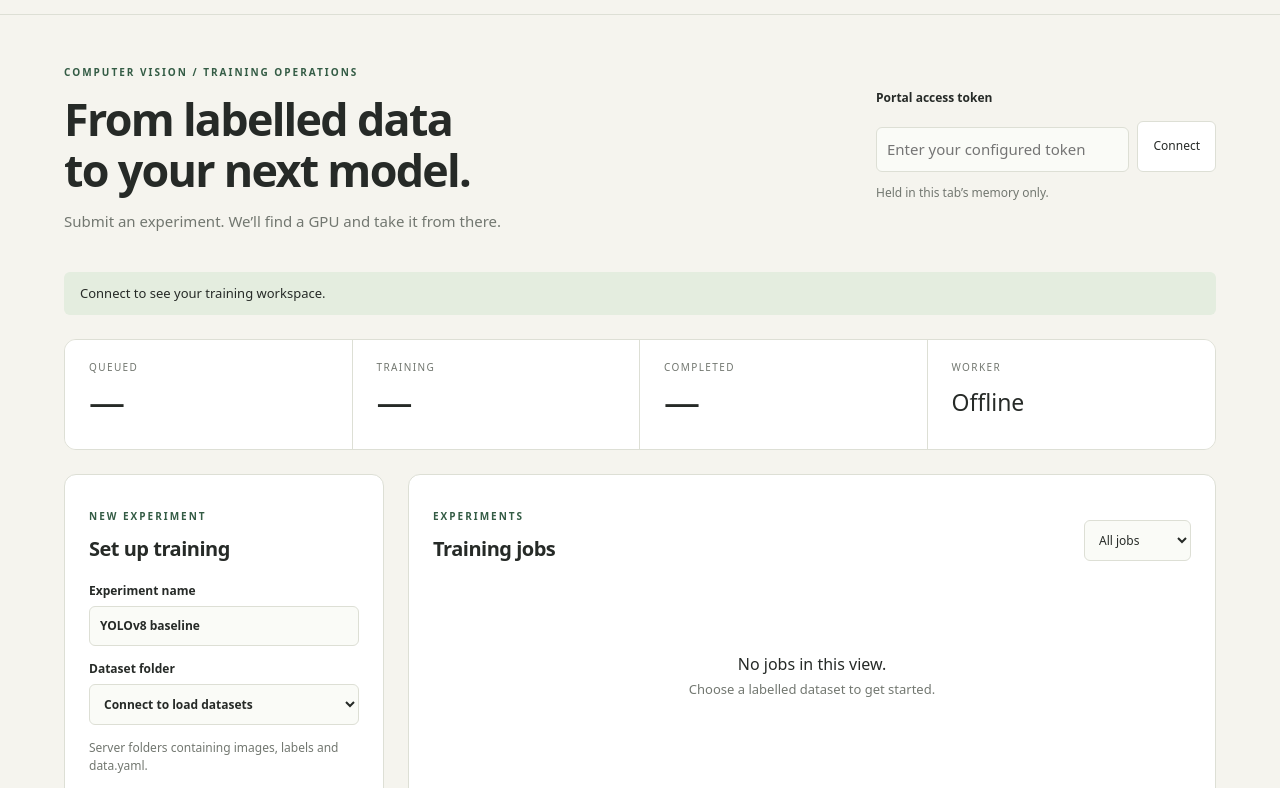
Test case: React training portal › disconnect clears private job state
The image size is (1280, 788).
Type "local-token" into the password field labelled "Portal access token" at coordinates (1003, 149), box [876,127,1130,172]
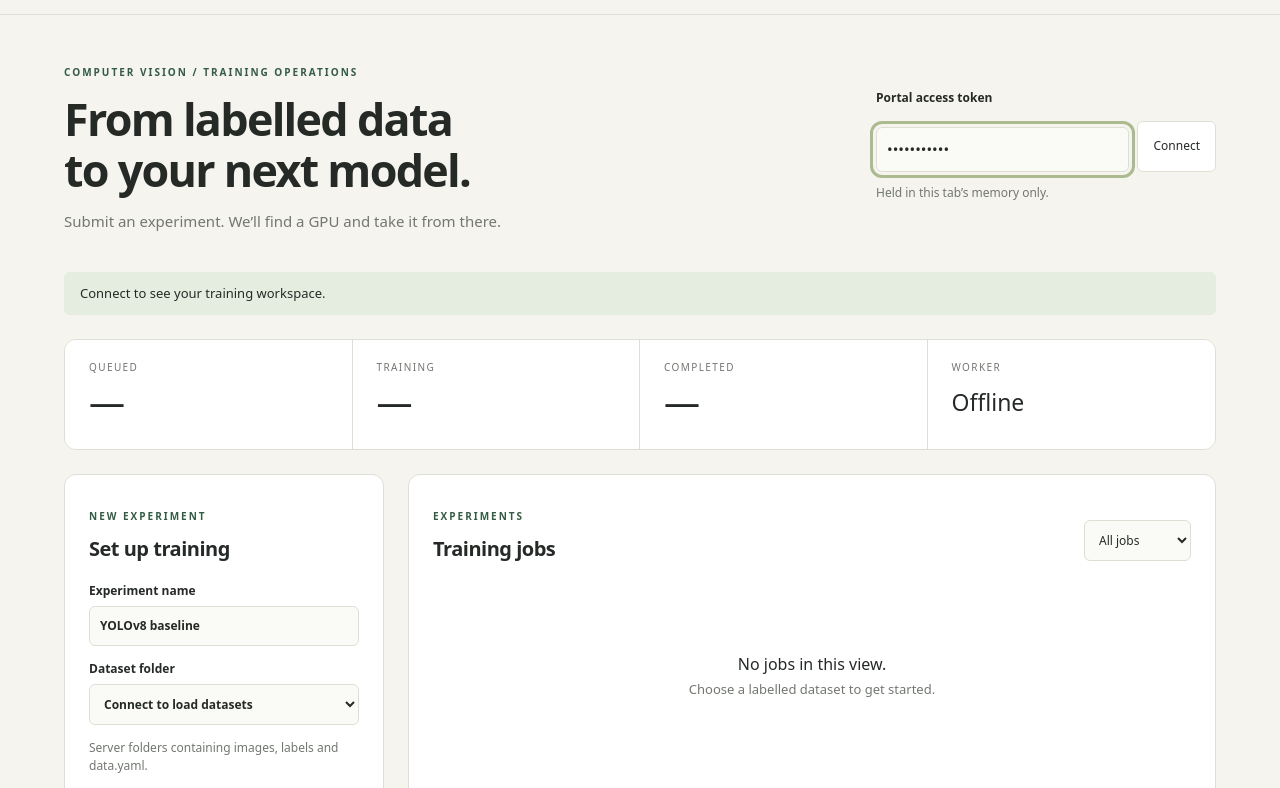
Click the button "Connect" at coordinates (1177, 146), box [1138,121,1216,172]
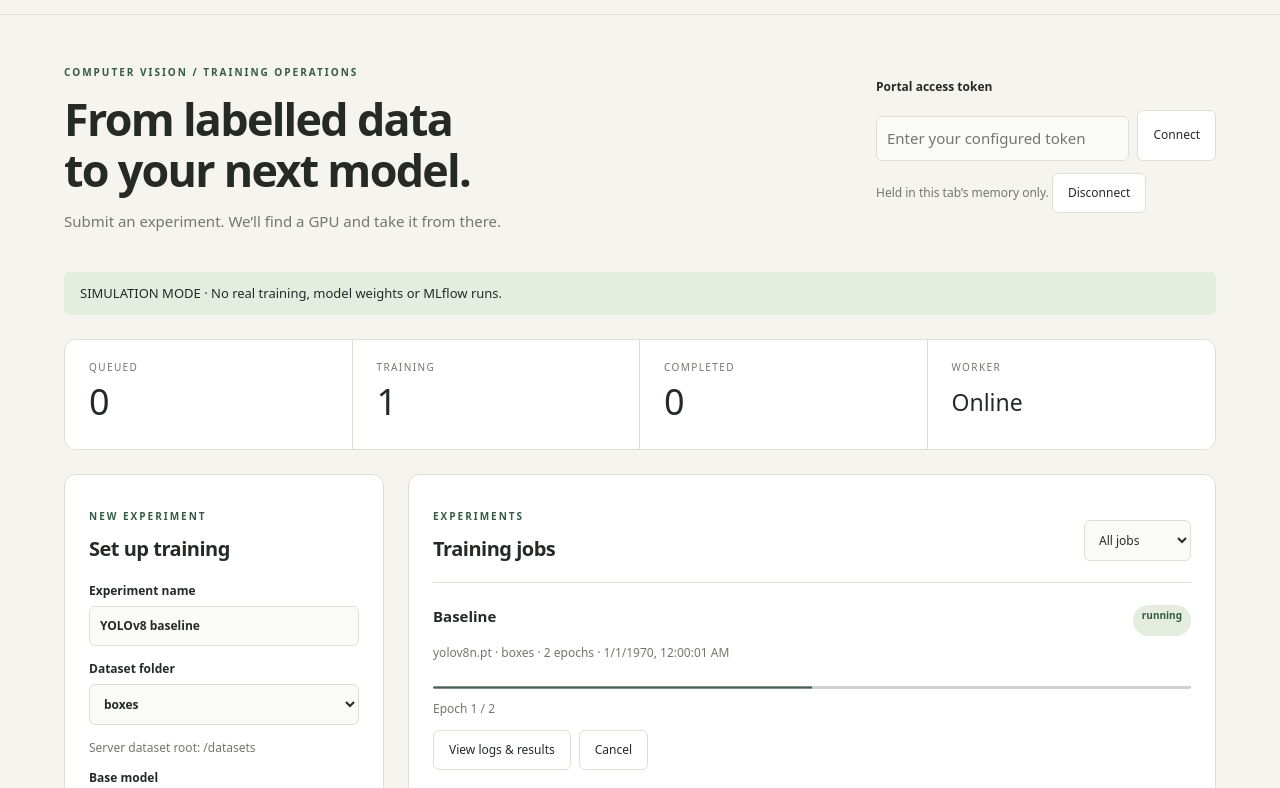
Now the heading "Baseline" is shown, box [433,605,496,628]
Click the button "Disconnect" at coordinates (1099, 193), box [1052,173,1146,213]
(page scrolled)
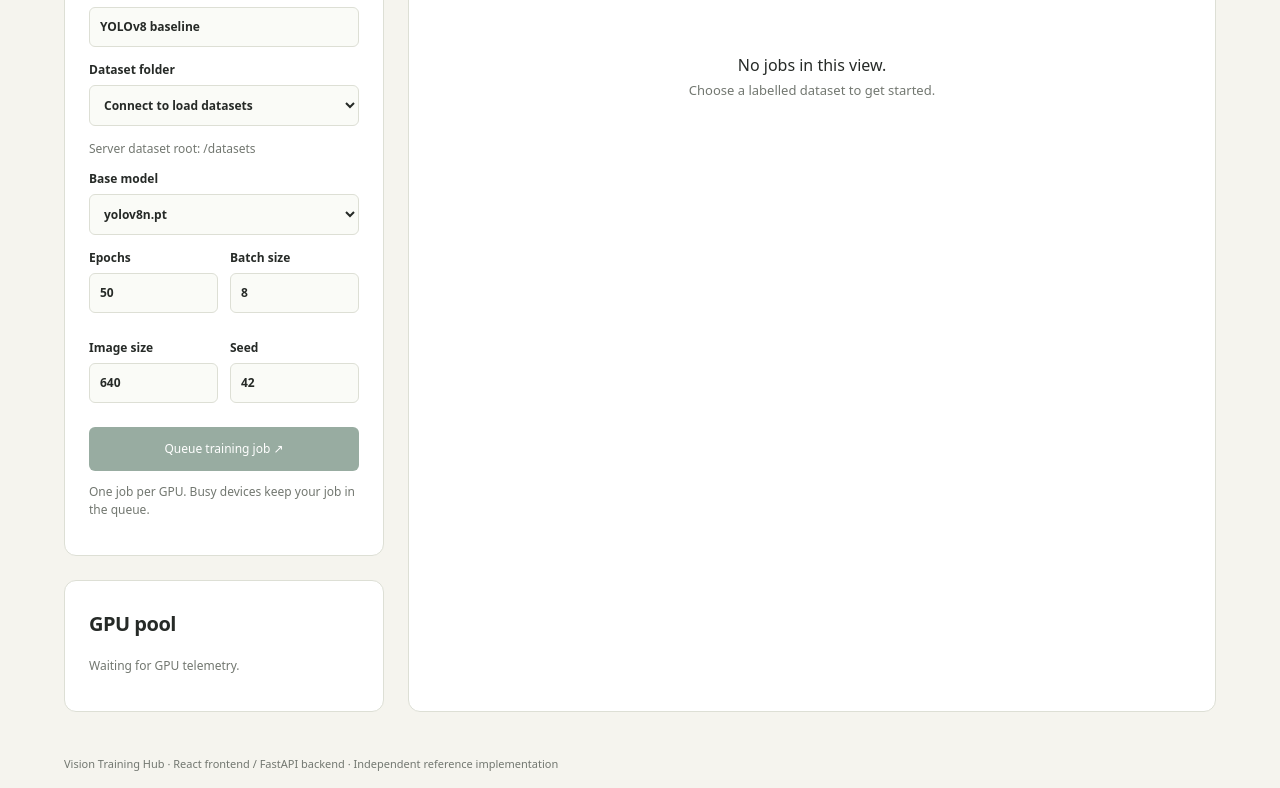
Now the button "Queue training job ↗" is disabled, box [89,427,359,471]
